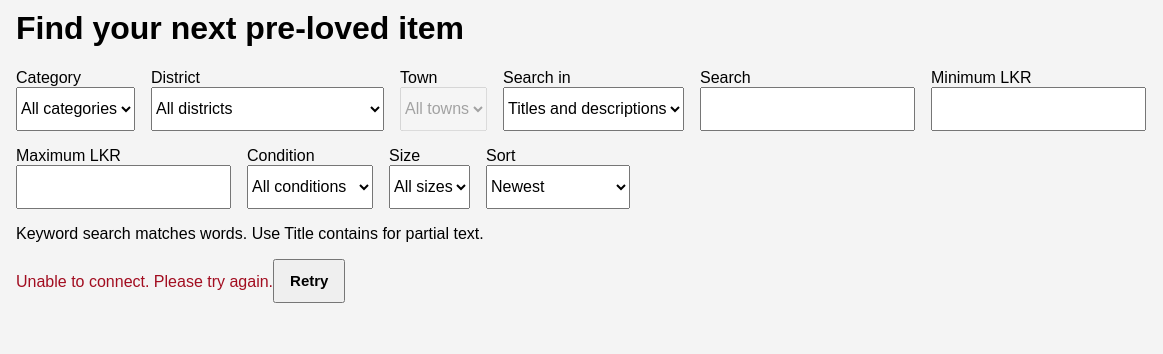
Test case: network failure exposes retry and recovery
Expected: the message "Unable to connect. Please try again. Retry" is shown, [16, 259, 345, 303]
Click the button "Retry".
click(309, 281)  # box [273, 259, 345, 303]
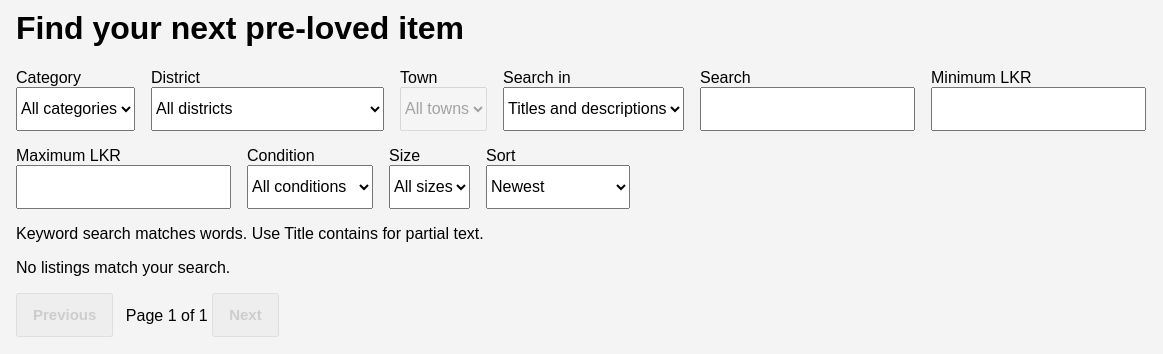
Now the text "No listings match your search." is shown, box [16, 259, 230, 276]
